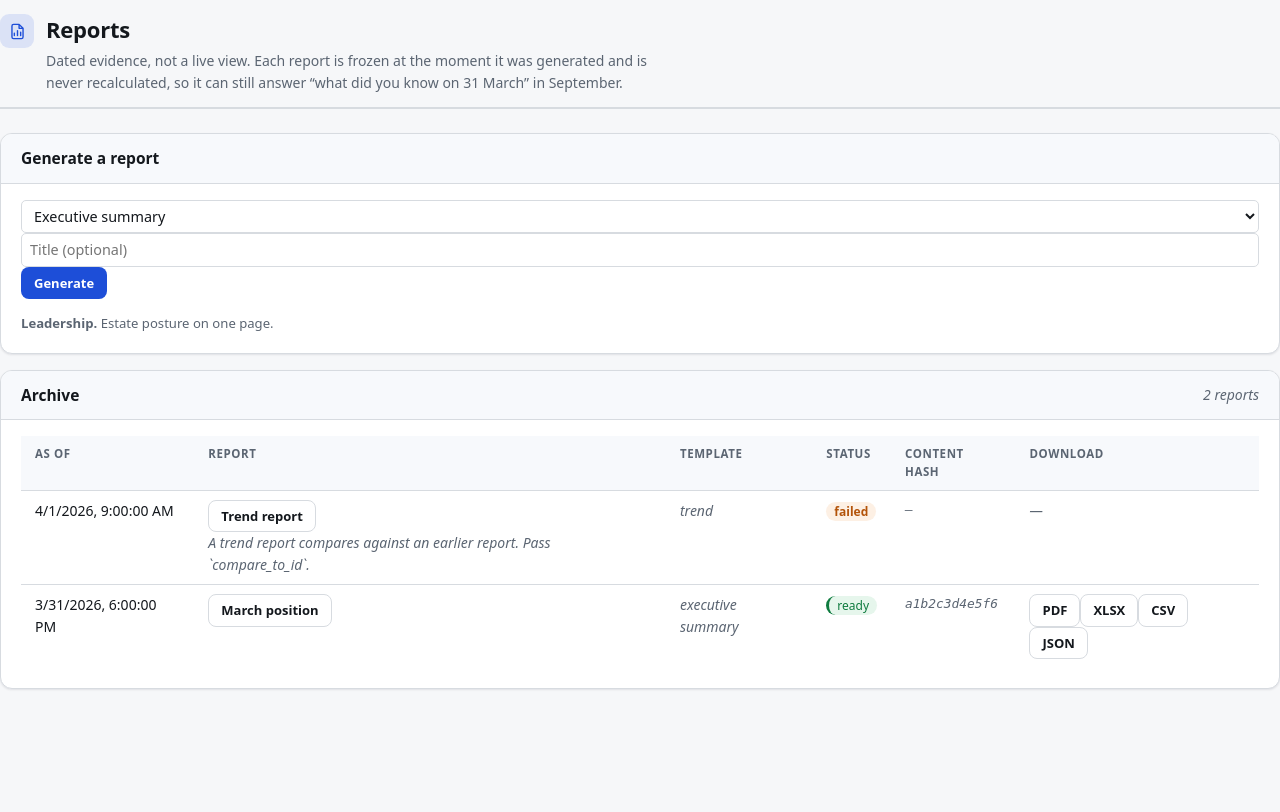
Test: ReportsPage › templates that need a scope ask for it before generating › will not generate a device report until a device is chosen
This screenshot has width=1280, height=812.
Step 1. Select "Device detail" in the dropdown named "Report template" → (640, 216), box [21,200,1259,232]
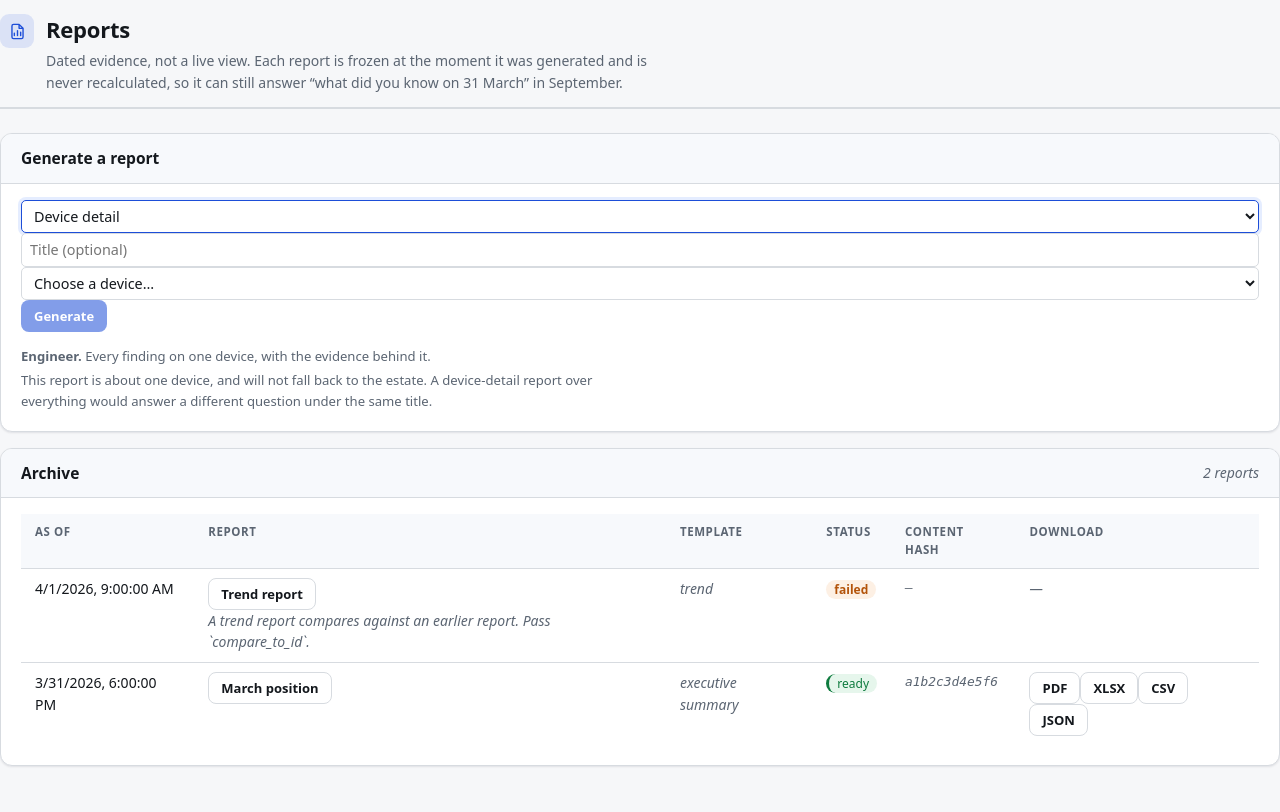
Result: the button "Generate" is disabled at [21,300,107,332]
Result: the text "will not fall back to the estate" is shown at [21,371,592,410]
